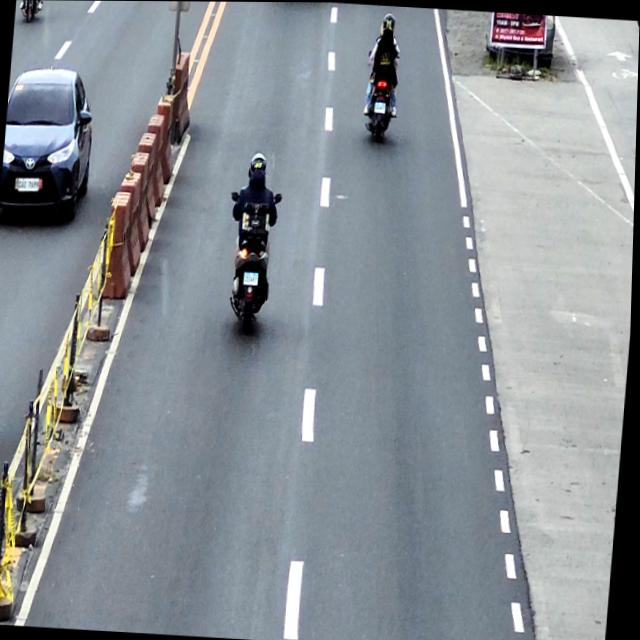Car: (0, 65, 99, 227)
License-Plate: (18, 179, 40, 193), (244, 271, 260, 285), (374, 102, 387, 113)
Motorcycle: (222, 189, 284, 336), (363, 48, 400, 141)
